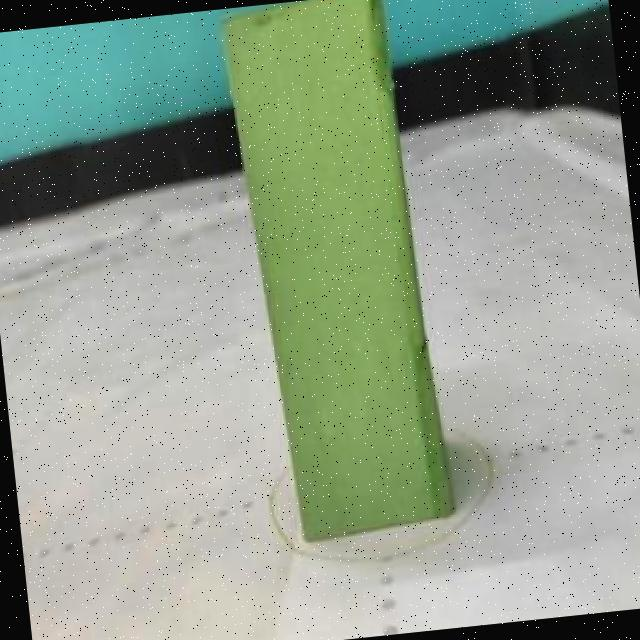greenbox: (212, 0, 453, 546)
